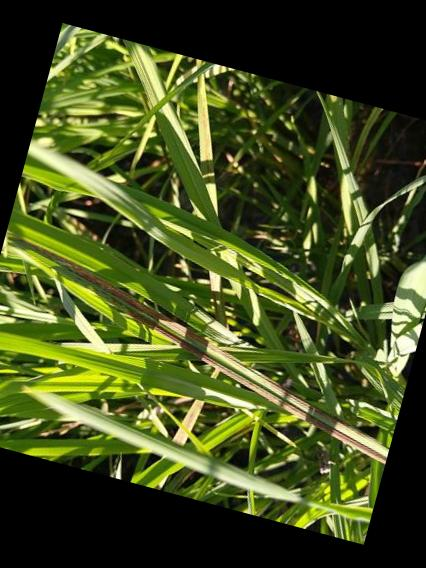Leaf Streak: (11, 237, 389, 467)
